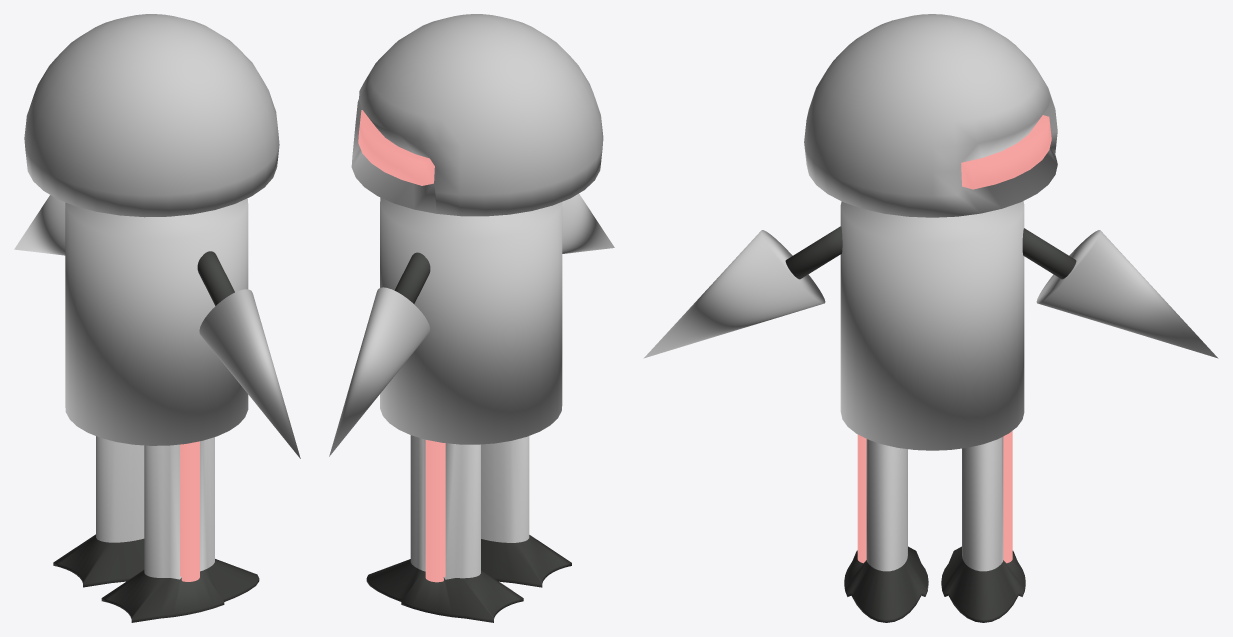
File: asasdasd.gltf
3 views of the same model, side by side, from view 1: azimuth 30°, elevation 25°; view 2: azimuth 150°, elevation 25°; view 3: azimuth 270°, elevation 25° (orthographic).
Parts seen in each view (by area): view 1: Sphere, Cylinder, Cylinder.002, Cylinder.001, Cone.001, Cylinder.006, Cone, Cylinder.004; view 2: Sphere, Cylinder, Cylinder.001, Cylinder.002, Cone, Cylinder.007, Cone.001, Cylinder.003; view 3: Cylinder, Sphere, Cylinder.001, Cylinder.002, Cone, Cone.001, Cylinder.004, Cylinder.003, Cylinder.007, Cylinder.006.
Part boxes in pixels (x1=…): Sphere: x1=24, y1=14, x2=279, y2=217; Cylinder: x1=65, y1=198, x2=248, y2=445; Cylinder.002: x1=101, y1=437, x2=259, y2=622; Cylinder.001: x1=53, y1=436, x2=144, y2=587; Cone.001: x1=199, y1=289, x2=300, y2=458; Cylinder.006: x1=180, y1=441, x2=199, y2=581; Cone: x1=14, y1=195, x2=65, y2=255; Cylinder.004: x1=197, y1=251, x2=234, y2=305; Sphere: x1=351, y1=14, x2=603, y2=216; Cylinder: x1=380, y1=197, x2=562, y2=444; Cylinder.001: x1=366, y1=435, x2=523, y2=622; Cylinder.002: x1=481, y1=436, x2=571, y2=587; Cone: x1=329, y1=287, x2=429, y2=456; Cylinder.007: x1=425, y1=440, x2=445, y2=582; Cone.001: x1=562, y1=193, x2=614, y2=253; Cylinder.003: x1=394, y1=252, x2=430, y2=303; Cylinder: x1=840, y1=201, x2=1024, y2=450; Sphere: x1=804, y1=14, x2=1057, y2=217; Cylinder.001: x1=941, y1=437, x2=1025, y2=622; Cylinder.002: x1=844, y1=439, x2=928, y2=622; Cone: x1=1036, y1=230, x2=1218, y2=358; Cone.001: x1=643, y1=230, x2=825, y2=358; Cylinder.004: x1=785, y1=226, x2=842, y2=279; Cylinder.003: x1=1022, y1=228, x2=1076, y2=279; Cylinder.007: x1=1003, y1=431, x2=1012, y2=563; Cylinder.006: x1=857, y1=434, x2=866, y2=563.
Size of the model in its own units: 2.52 by 6.03 by 5.65.
